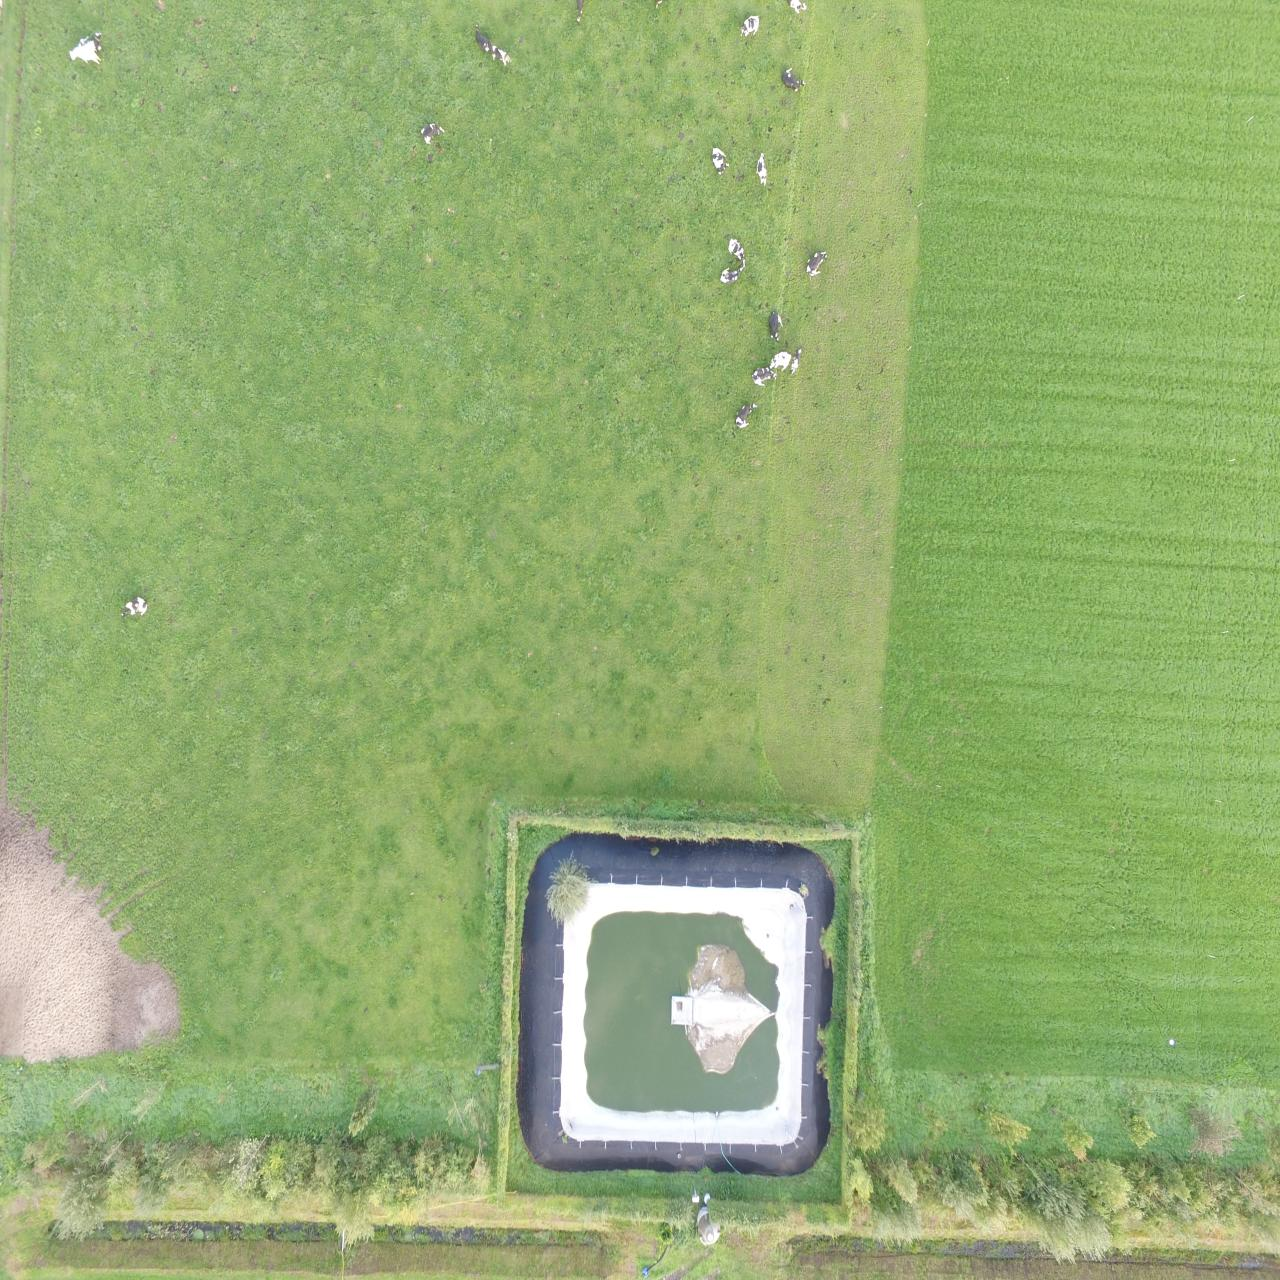cow: (471, 22, 512, 68), (67, 30, 103, 67), (779, 66, 806, 94), (750, 365, 777, 389), (731, 401, 756, 428), (122, 594, 149, 618), (805, 250, 826, 278), (727, 237, 745, 268), (737, 13, 760, 39), (712, 144, 729, 176), (754, 149, 768, 188), (420, 123, 444, 144), (768, 309, 783, 343), (571, 0, 588, 29), (769, 350, 791, 372), (790, 345, 803, 376), (715, 268, 740, 284), (783, 0, 808, 12)
